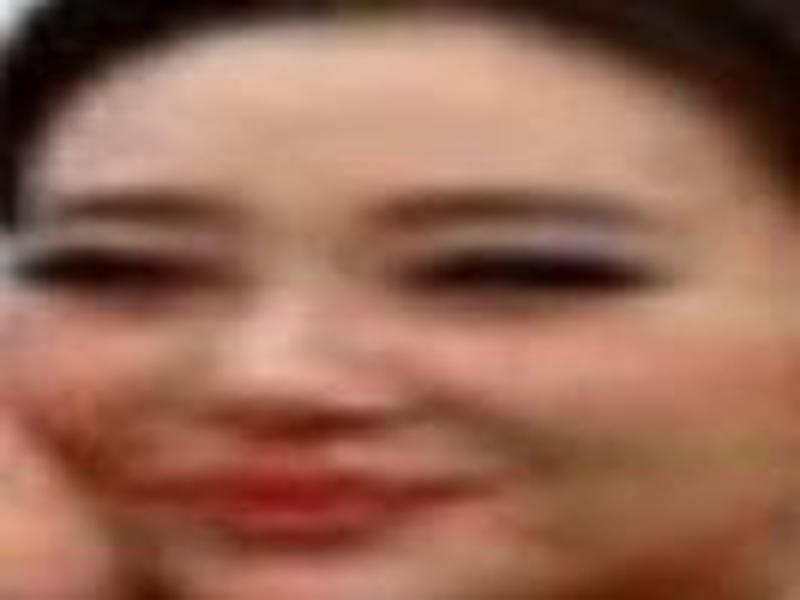without_mask: (16, 67, 770, 600)
